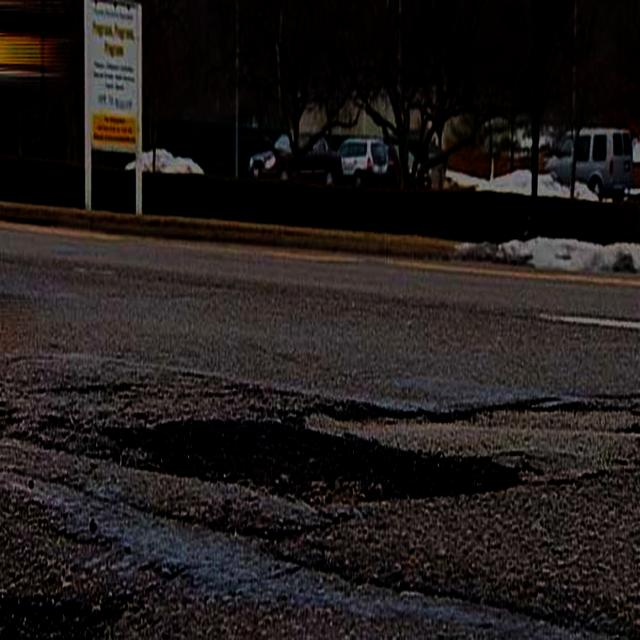Pothole: (13, 362, 640, 575)
